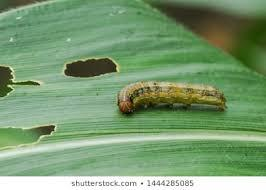fallarmy_worm: (114, 80, 233, 124)
